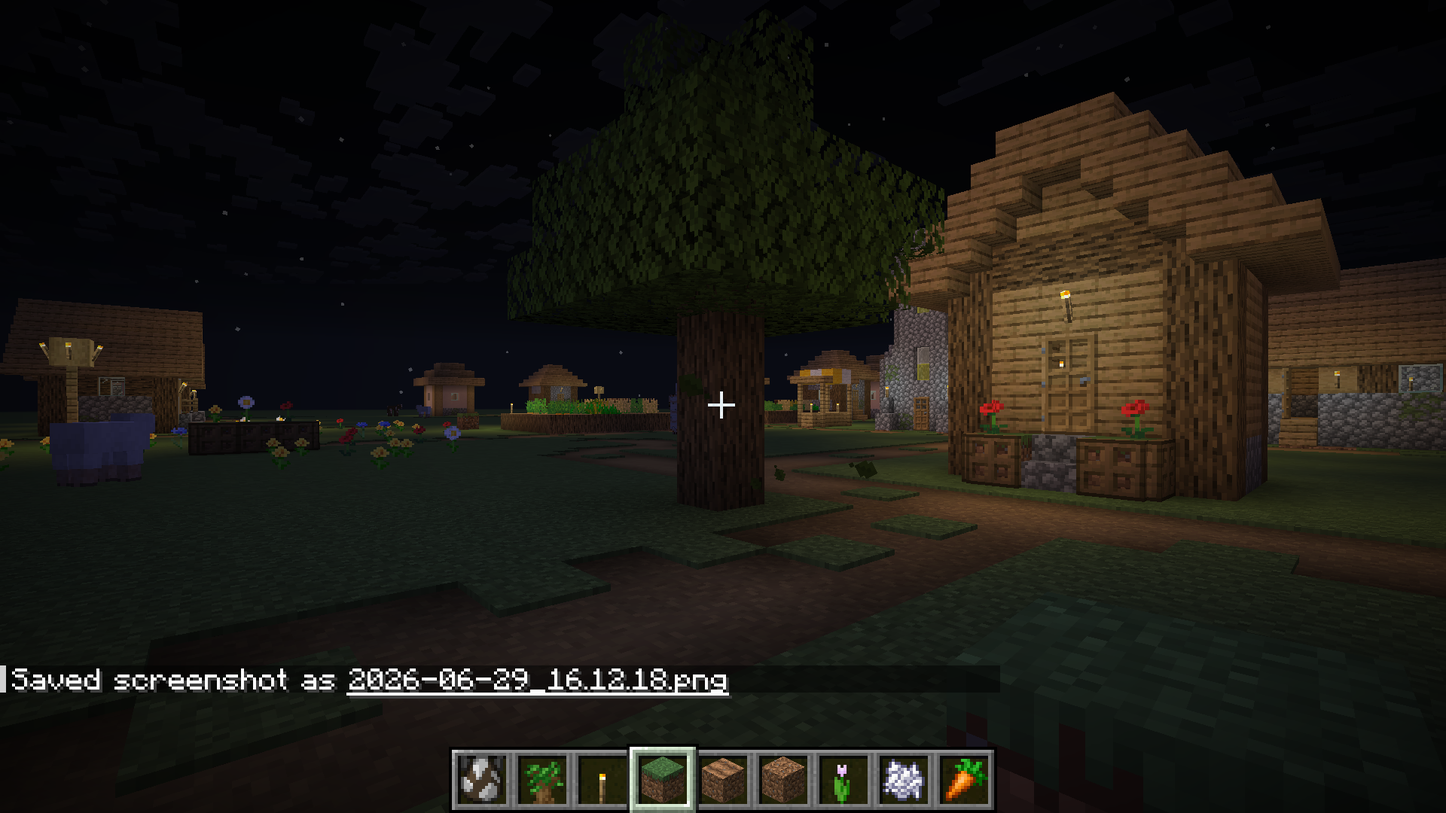Sheep: (44, 396, 165, 494)
Torch: (1048, 283, 1082, 324), (60, 338, 76, 359)
Tree: (512, 2, 957, 531)
flower: (1116, 392, 1165, 447), (256, 426, 318, 468), (969, 393, 1011, 437), (337, 417, 365, 458), (233, 393, 263, 423), (440, 416, 466, 449), (366, 444, 392, 471)
wood: (678, 322, 759, 390), (1169, 264, 1239, 340), (682, 440, 762, 506)
